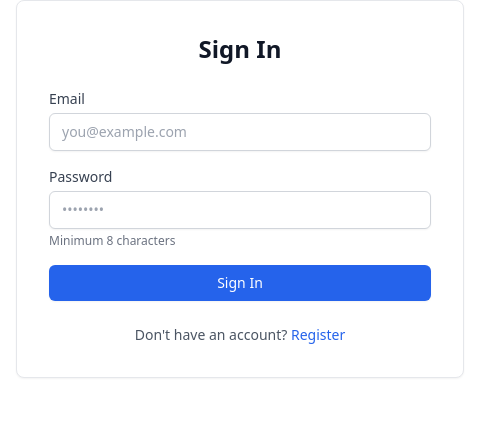
Test: AuthForm › login form validation › shows email required error when email is empty
Click the button "Sign In" at (240, 283), box left=49, top=265, right=431, bottom=301
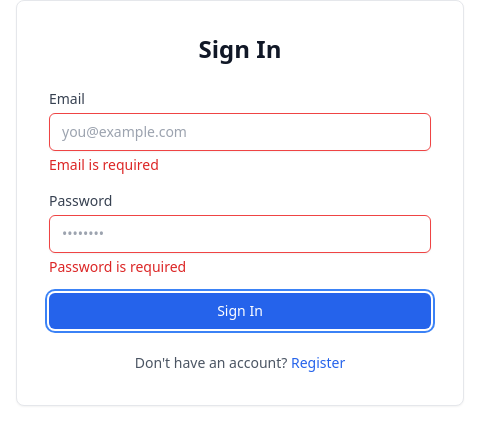
Expected: the text "Email is required" is shown, left=49, top=155, right=159, bottom=174
